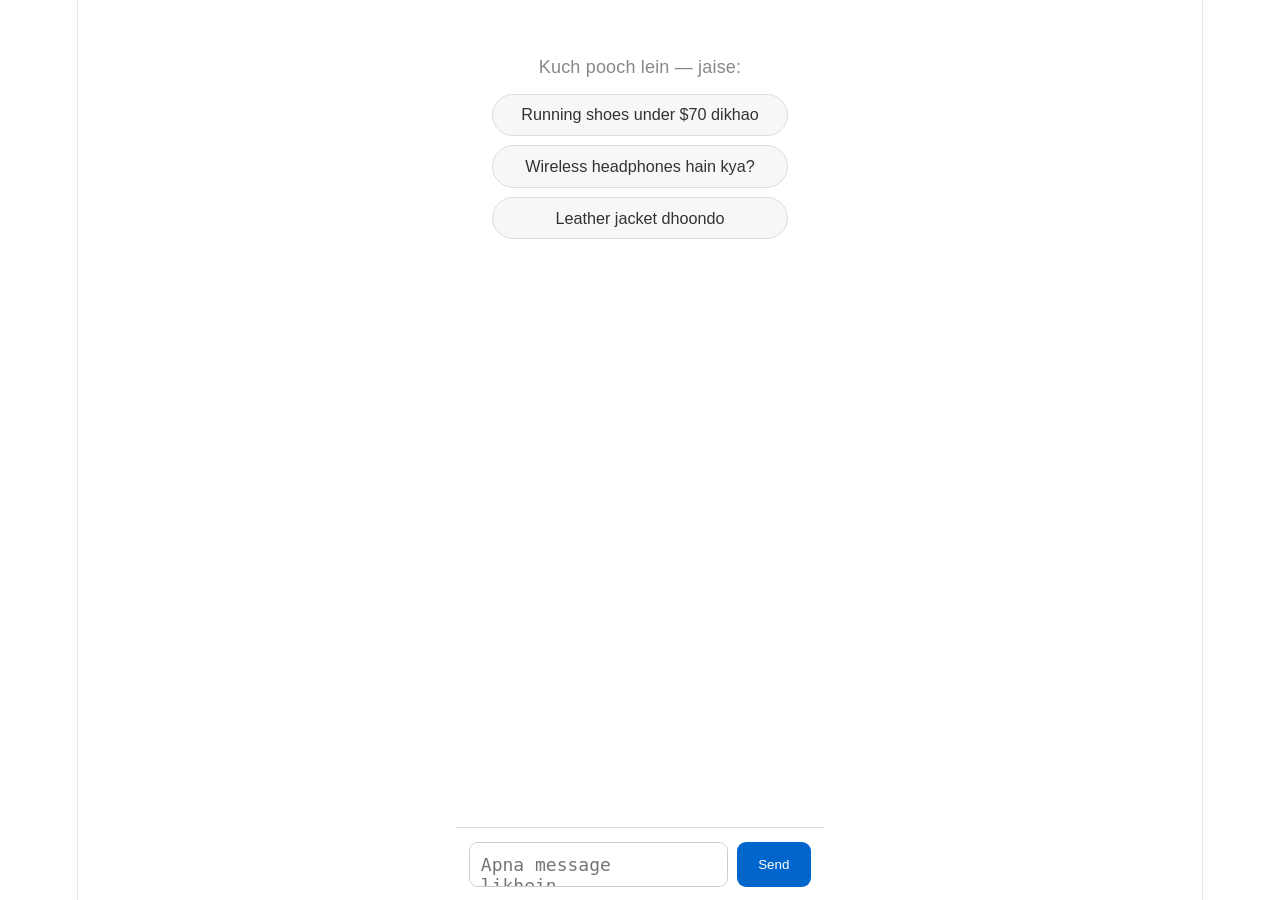
it: input validation (the "form") › disables the input and swaps Send for Stop while streaming
The width and height of the screenshot is (1280, 900).
In the text box: (598, 864) [469,842,728,886], type "Hello"
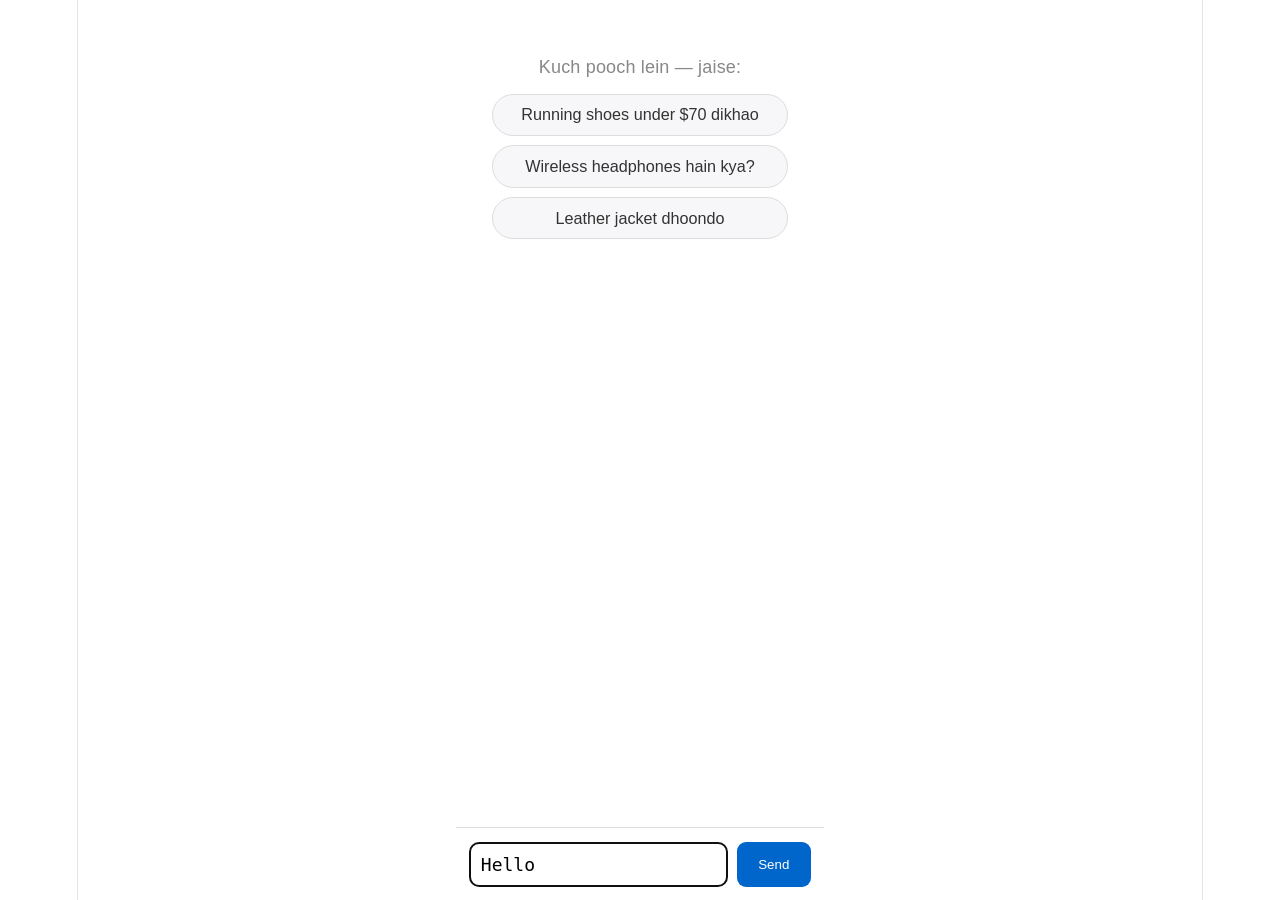
Click the button "Send": (774, 864) [737,842,811,886]
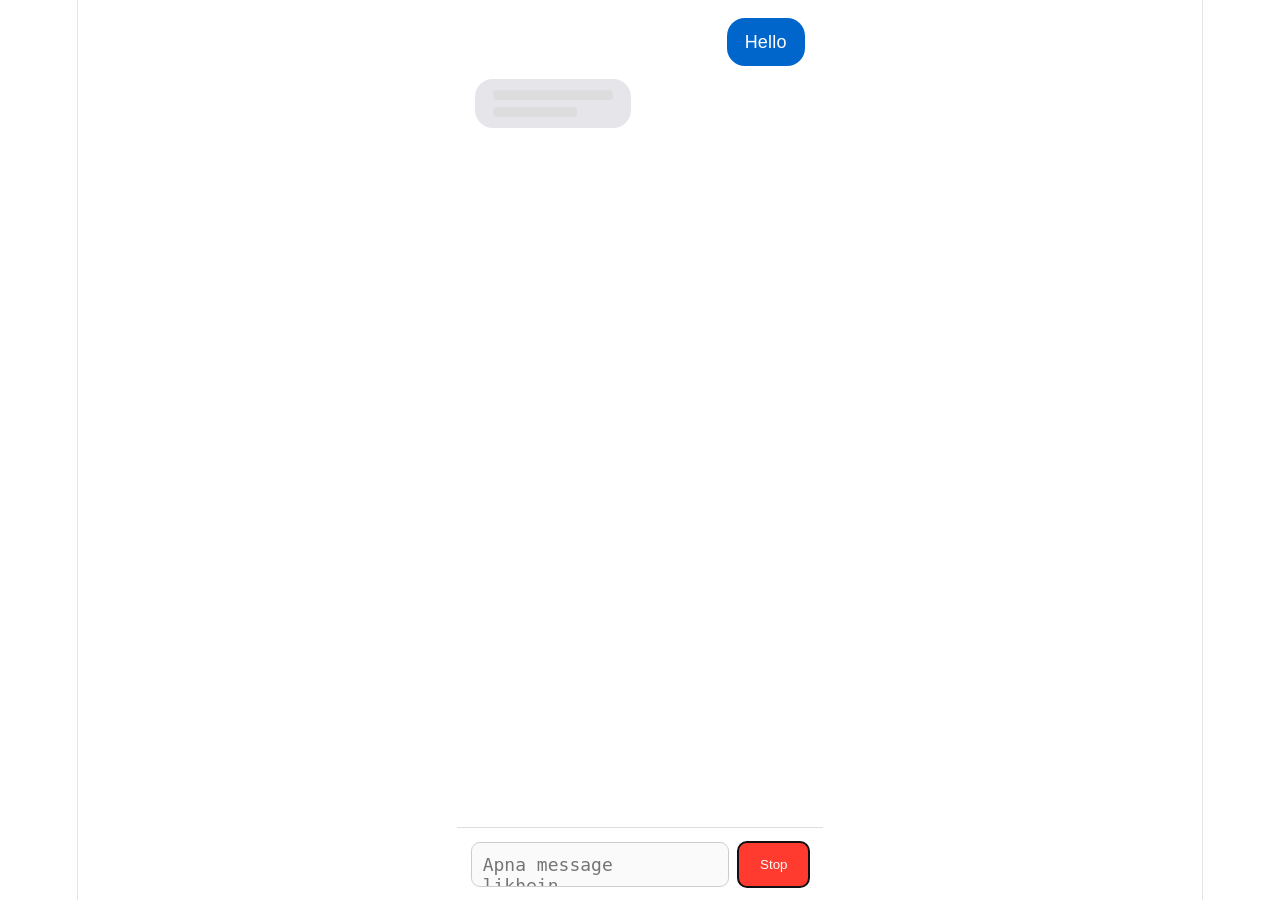
Check: the text box is disabled, box [471,842,730,886]
Check: the button "Stop" is shown, box [738,842,809,886]
Check: the button "Send" is gone
